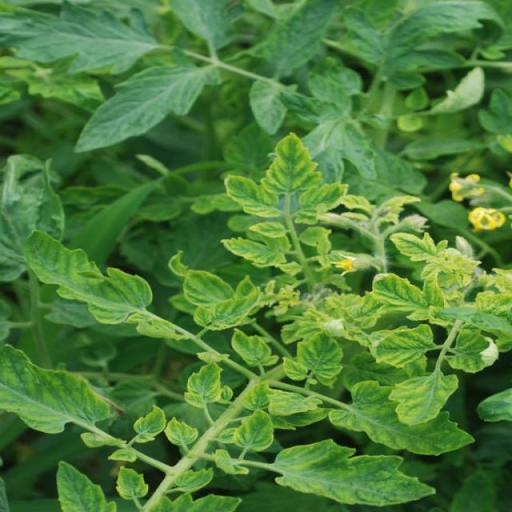disease_tomato: (24, 226, 152, 327), (272, 438, 442, 508), (327, 381, 477, 455), (2, 346, 114, 435), (258, 134, 326, 200), (280, 329, 344, 390), (389, 374, 461, 428), (371, 270, 444, 323), (368, 323, 438, 370), (192, 290, 262, 336), (223, 173, 286, 218), (446, 330, 498, 374), (221, 238, 288, 270), (386, 230, 450, 262), (231, 327, 279, 368), (182, 361, 222, 408), (238, 410, 278, 452), (297, 182, 351, 213), (115, 464, 152, 509), (268, 389, 322, 419), (132, 404, 167, 443), (164, 416, 200, 448), (176, 467, 214, 492)
